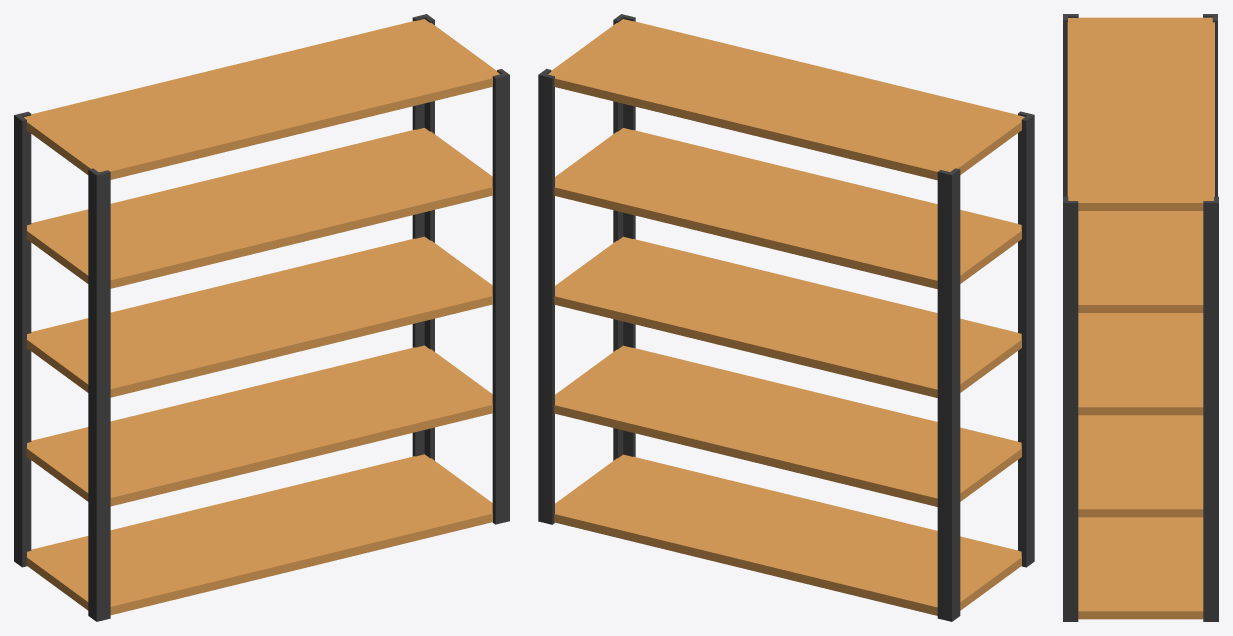
File: GarageShelf.fbx
3 views of the same model, side by side, from view 1: azimuth 30°, elevation 25°; view 2: azimuth 150°, elevation 25°; view 3: azimuth 270°, elevation 25° (orthographic). The views are drawn at different scales.
Parts seen in each view (by area): view 1: Cube.008, Cube.005, Cube.006, Cube.007, Cube.004, Cube.001, Cube, Cube.002, Cube.003; view 2: Cube.008, Cube.006, Cube.005, Cube.007, Cube.004, Cube.002, Cube.003, Cube.001, Cube; view 3: Cube.008, Cube.005, Cube.006, Cube.007, Cube.004, Cube, Cube.003, Cube.001, Cube.002.
Boxes of the visible parts, <box> form: Cube.008: <box>24,19,499,179</box>; Cube.005: <box>26,236,492,397</box>; Cube.006: <box>26,345,492,506</box>; Cube.007: <box>26,454,492,615</box>; Cube.004: <box>26,128,492,288</box>; Cube.001: <box>88,168,110,621</box>; Cube: <box>492,69,509,524</box>; Cube.002: <box>14,111,31,567</box>; Cube.003: <box>412,14,434,460</box>; Cube.008: <box>548,19,1024,180</box>; Cube.006: <box>554,345,1021,506</box>; Cube.005: <box>554,236,1021,397</box>; Cube.007: <box>554,454,1021,615</box>; Cube.004: <box>554,128,1021,289</box>; Cube.002: <box>937,168,960,621</box>; Cube.003: <box>538,68,554,524</box>; Cube.001: <box>1018,111,1034,567</box>; Cube: <box>613,14,635,460</box>; Cube.008: <box>1067,17,1214,210</box>; Cube.005: <box>1078,313,1203,415</box>; Cube.006: <box>1078,415,1203,517</box>; Cube.007: <box>1078,517,1203,619</box>; Cube.004: <box>1078,211,1203,312</box>; Cube: <box>1063,196,1078,621</box>; Cube.003: <box>1203,196,1218,621</box>; Cube.001: <box>1063,14,1078,196</box>; Cube.002: <box>1203,14,1217,196</box>.
Bounding box in the file's own units: 2169 × 2240 × 755.
